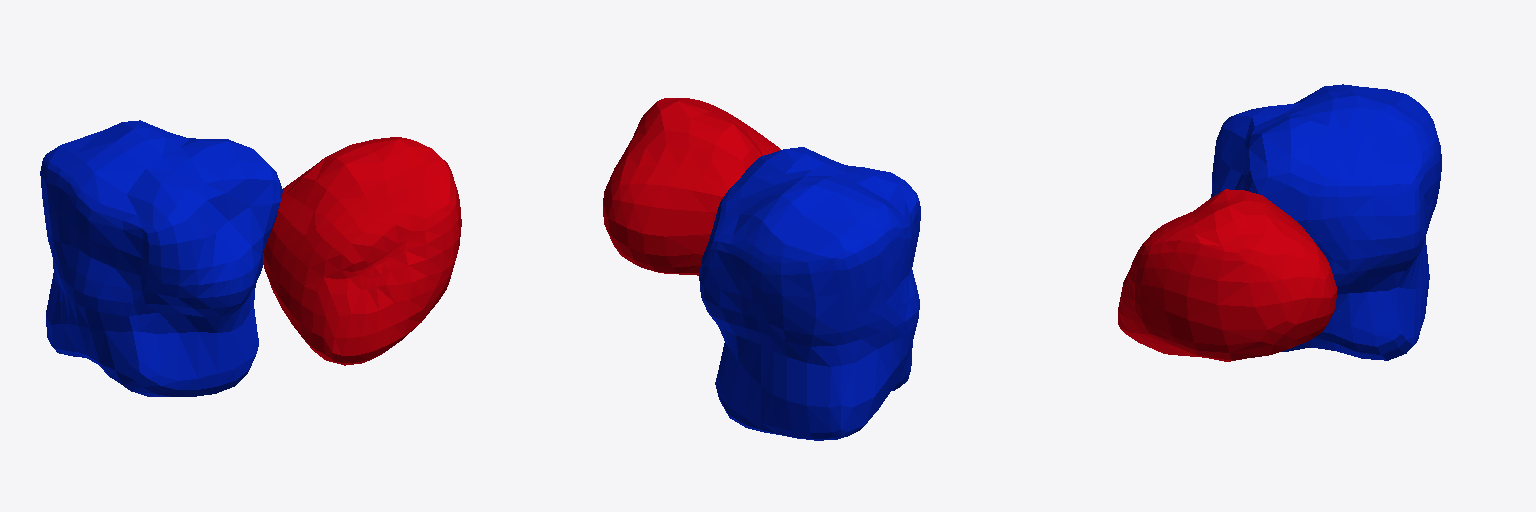
Rendered from blobs.obj.
3 views of the same model, side by side, from view 1: azimuth 30°, elevation 25°; view 2: azimuth 150°, elevation 25°; view 3: azimuth 270°, elevation 25° (orthographic).
Parts seen in each view (by area): view 1: Cube_blob; view 2: Cube_blob; view 3: Cube_blob.
Part boxes in pixels (bbox=[...]): Cube_blob: bbox=[40, 120, 461, 396]; Cube_blob: bbox=[603, 98, 920, 440]; Cube_blob: bbox=[1118, 84, 1441, 361].
Size of the model in its own units: 6.05 by 4.23 by 5.2.